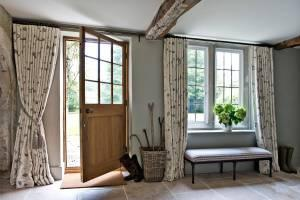window: (184, 45, 252, 131)
